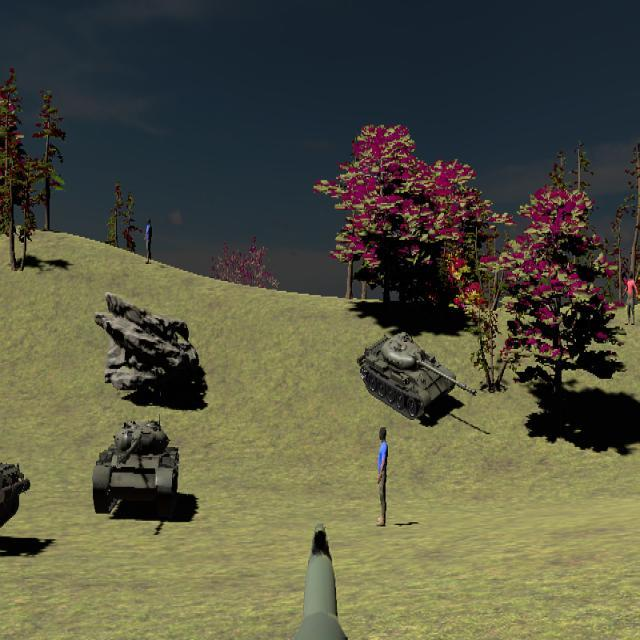Human: (376, 426, 389, 526), (622, 270, 638, 326)
Tank: (357, 331, 478, 420), (92, 419, 180, 519), (0, 428, 31, 559)
